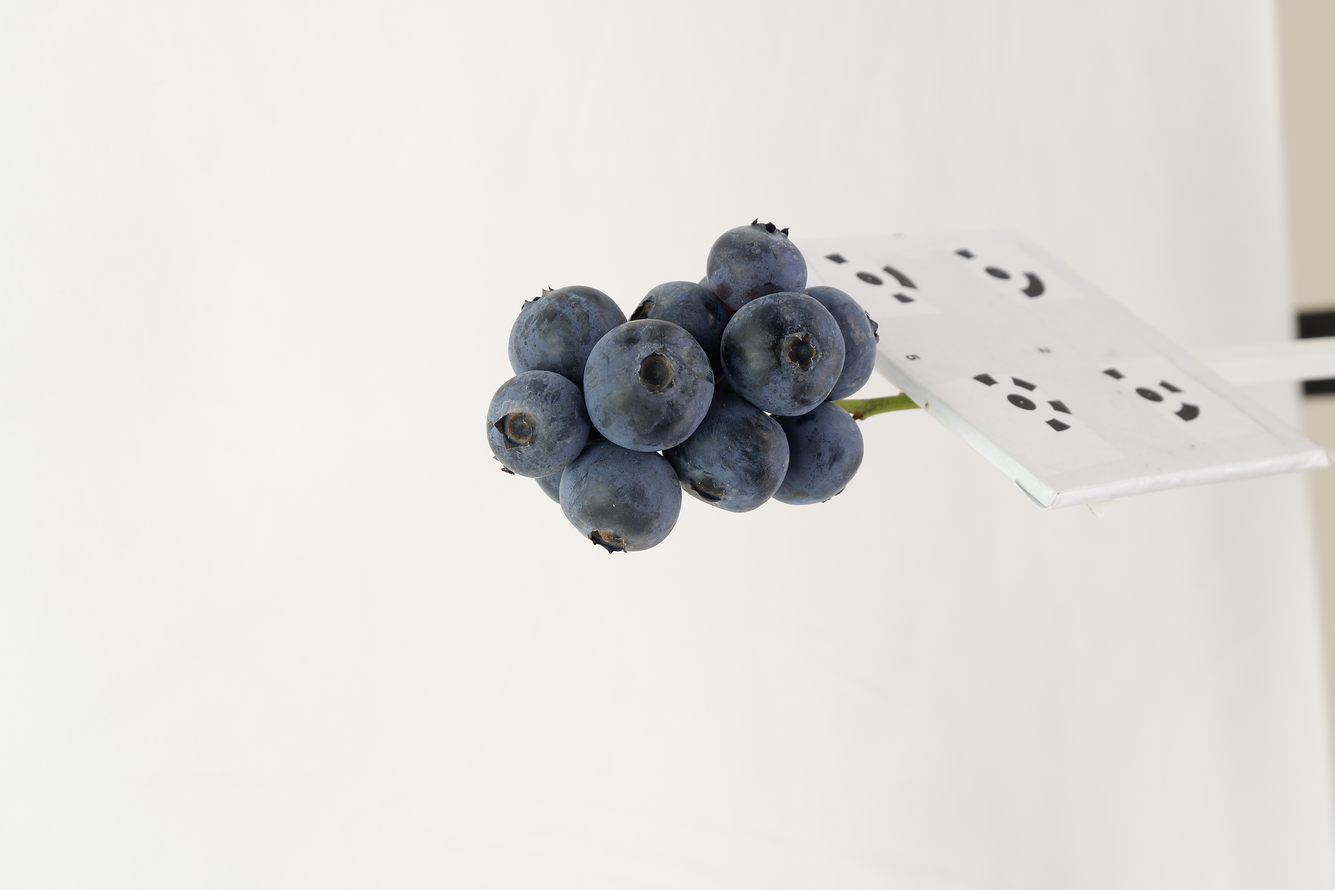Mature: (585, 322, 715, 451), (664, 390, 791, 514), (723, 292, 846, 413), (560, 441, 680, 551), (508, 286, 628, 389), (486, 373, 588, 477), (773, 403, 863, 506), (630, 283, 728, 371), (807, 286, 879, 402), (707, 223, 805, 308), (698, 275, 741, 323), (536, 467, 564, 500)
